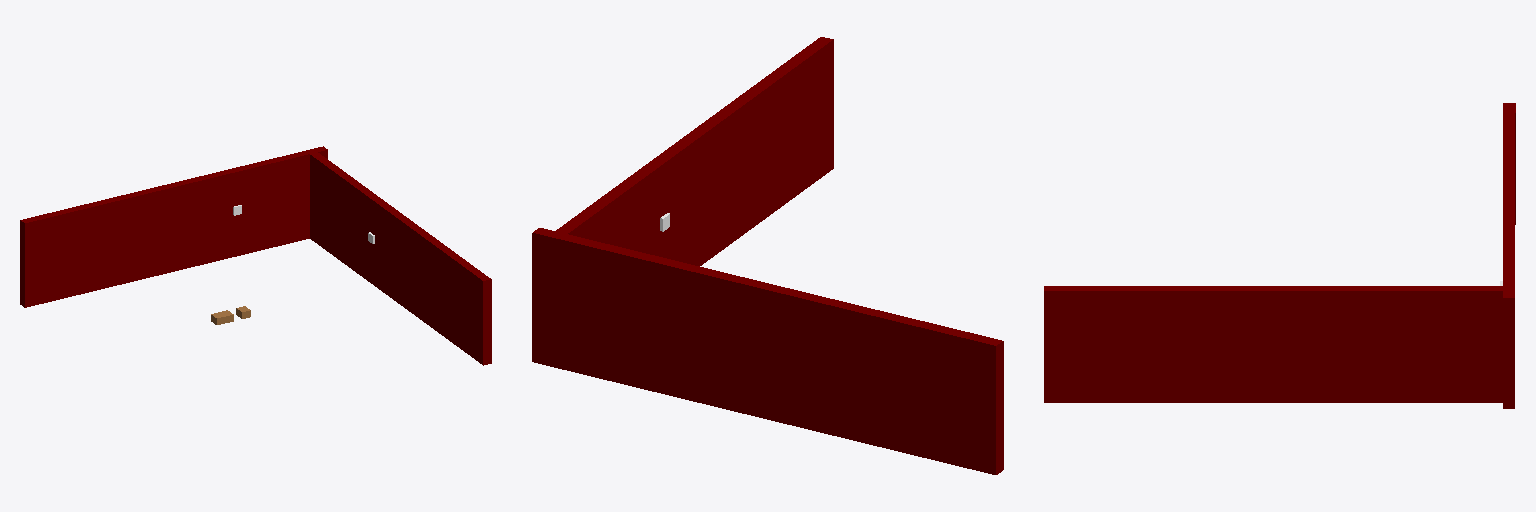
The robot description file, URDF, robot "aruco_markers":
<?xml version="1.0" ?>
<!-- =================================================================================== -->
<!-- |    This document was autogenerated by xacro from bot_world.urdf.xacro           | -->
<!-- |    EDITING THIS FILE BY HAND IS NOT RECOMMENDED                                 | -->
<!-- =================================================================================== -->
<robot name="aruco_markers">
  <link name="base_box">
    <visual>
      <origin rpy="0 0 1.57" xyz="0 0 0.0825"/>
      <geometry>
        <box size="0.255 0.21 0.165"/>
      </geometry>
      <material name="Almond">
        <color rgba="0.7 0.5 0.3 1.0"/>
      </material>
    </visual>
    <collision>
      <origin rpy="0 0 0" xyz="0 0 0.0825"/>
      <geometry>
        <box size="0.255 0.21 0.165"/>
      </geometry>
    </collision>
    <inertial>
      <origin rpy="0 0 0" xyz="0 0 0.0825"/>
      <mass value="0.180"/>
      <inertia ixx="6.0e-4" ixy="0" ixz="0" iyy="6.0e-4" iyz="0" izz="6.0e-4"/>
    </inertial>
  </link>
  <!-- <xacro:box_world name="box_1" parent="base_box"> -->
  <!-- 	<origin xyz="0.42 0 0" rpy="0 0 1.57"/> -->
  <!-- </xacro:box_world> -->
  <link name="box_2">
    <visual>
      <origin rpy="0 0 0" xyz="0 0 0.0825"/>
      <geometry>
        <box size="0.255 0.21 0.165"/>
      </geometry>
      <material name="Almond">
        <color rgba="0.7 0.5 0.3 1.0"/>
      </material>
    </visual>
    <collision>
      <origin rpy="0 0 0" xyz="0 0 0.0825"/>
      <geometry>
        <box size="0.255 0.21 0.165"/>
      </geometry>
    </collision>
    <inertial>
      <origin rpy="0 0 0" xyz="0 0 0.0825"/>
      <mass value="0.180"/>
      <inertia ixx="6.0e-4" ixy="0" ixz="0" iyy="6.0e-4" iyz="0" izz="6.0e-4"/>
    </inertial>
  </link>
  <joint name="box_2_joint" type="continuous">
    <origin rpy="0 0 1.57" xyz="-0.42 0 0"/>
    <parent link="base_box"/>
    <child link="box_2"/>
  </joint>
  <!-- <xacro:box_world name="box_3" parent="base_box"> -->
  <!-- 	<origin xyz="-0.21 -0.1275 0" rpy="0 0 1.57"/> -->
  <!-- </xacro:box_world> -->
  <link name="box_4">
    <visual>
      <origin rpy="0 0 0" xyz="0 0 0.0825"/>
      <geometry>
        <box size="0.255 0.21 0.165"/>
      </geometry>
      <material name="Almond">
        <color rgba="0.7 0.5 0.3 1.0"/>
      </material>
    </visual>
    <collision>
      <origin rpy="0 0 0" xyz="0 0 0.0825"/>
      <geometry>
        <box size="0.255 0.21 0.165"/>
      </geometry>
    </collision>
    <inertial>
      <origin rpy="0 0 0" xyz="0 0 0.0825"/>
      <mass value="0.180"/>
      <inertia ixx="6.0e-4" ixy="0" ixz="0" iyy="6.0e-4" iyz="0" izz="6.0e-4"/>
    </inertial>
  </link>
  <joint name="box_4_joint" type="continuous">
    <origin rpy="0 0 1.57" xyz="-0.63 0 0"/>
    <parent link="base_box"/>
    <child link="box_4"/>
  </joint>
  <link name="wall_1">
    <visual>
      <origin rpy="0 0 0" xyz="0 0 1.0"/>
      <geometry>
        <box size="0.2 7.5 2.0"/>
      </geometry>
      <material name="Maroon">
        <color rgba="0.5 0.0 0.0 1.0"/>
      </material>
    </visual>
    <collision>
      <origin rpy="0 0 0" xyz="0 0 1.0"/>
      <geometry>
        <box size="0.2 7.5 2.0"/>
      </geometry>
    </collision>
    <inertial>
      <origin rpy="0 0 0" xyz="0 0 1.0"/>
      <mass value="2"/>
      <inertia ixx="6.0e-2" ixy="0" ixz="0" iyy="6.0e-4" iyz="0" izz="6.0e-2"/>
    </inertial>
  </link>
  <joint name="wall_1_joint" type="continuous">
    <origin rpy="0 0 0" xyz="3.3 -1.0 0.0"/>
    <parent link="base_box"/>
    <child link="wall_1"/>
  </joint>
  <link name="wall_2">
    <visual>
      <origin rpy="0 0 0" xyz="0 0 1.0"/>
      <geometry>
        <box size="0.2 7.5 2.0"/>
      </geometry>
      <material name="Maroon">
        <color rgba="0.5 0.0 0.0 1.0"/>
      </material>
    </visual>
    <collision>
      <origin rpy="0 0 0" xyz="0 0 1.0"/>
      <geometry>
        <box size="0.2 7.5 2.0"/>
      </geometry>
    </collision>
    <inertial>
      <origin rpy="0 0 0" xyz="0 0 1.0"/>
      <mass value="2"/>
      <inertia ixx="6.0e-2" ixy="0" ixz="0" iyy="6.0e-4" iyz="0" izz="6.0e-2"/>
    </inertial>
  </link>
  <joint name="wall_2_joint" type="continuous">
    <origin rpy="0 0 1.57" xyz="-0.1 2.8 0.0"/>
    <parent link="base_box"/>
    <child link="wall_2"/>
  </joint>
  <link name="wb1_w1">
    <visual>
      <origin rpy="0 0 0" xyz="0 0 0.1"/>
      <geometry>
        <box size="0.1 0.2 0.2"/>
      </geometry>
      <material name="White">
        <color rgba="1.0 1.0 1.0 1.0"/>
      </material>
    </visual>
    <collision>
      <origin rpy="0 0 0" xyz="0 0 0.1"/>
      <geometry>
        <box size="0.1 0.2 0.2"/>
      </geometry>
    </collision>
    <inertial>
      <origin rpy="0 0 0" xyz="0 0 0.1"/>
      <mass value="0.180"/>
      <inertia ixx="6.0e-4" ixy="0" ixz="0" iyy="6.0e-4" iyz="0" izz="6.0e-4"/>
    </inertial>
  </link>
  <joint name="wb1_w1_joint" type="fixed">
    <origin rpy="0 0 0" xyz="3.2 0.0 1.0"/>
    <parent link="base_box"/>
    <child link="wb1_w1"/>
  </joint>
  <link name="wb1_w2">
    <visual>
      <origin rpy="0 0 0" xyz="0 0 0.1"/>
      <geometry>
        <box size="0.1 0.2 0.2"/>
      </geometry>
      <material name="White">
        <color rgba="1.0 1.0 1.0 1.0"/>
      </material>
    </visual>
    <collision>
      <origin rpy="0 0 0" xyz="0 0 0.1"/>
      <geometry>
        <box size="0.1 0.2 0.2"/>
      </geometry>
    </collision>
    <inertial>
      <origin rpy="0 0 0" xyz="0 0 0.1"/>
      <mass value="0.180"/>
      <inertia ixx="6.0e-4" ixy="0" ixz="0" iyy="6.0e-4" iyz="0" izz="6.0e-4"/>
    </inertial>
  </link>
  <joint name="wb1_w2_joint" type="fixed">
    <origin rpy="0 0 1.57" xyz="1.4 2.7 1.0"/>
    <parent link="base_box"/>
    <child link="wb1_w2"/>
  </joint>
  <link name="marker01_link">
    <inertial>
      <mass value="0.001"/>
      <origin xyz="0 0 0"/>
      <inertia ixx="3.7499999999999997e-06" ixy="0.0" ixz="0.0" iyy="1.8750008333333333e-06" iyz="0.0" izz="1.8750008333333333e-06"/>
    </inertial>
    <visual>
      <origin rpy="0 1.57 0" xyz="0 0 0.0"/>
      <geometry>
        <mesh filename="file://[local-path]/RSP_final_project/install/ign_gazebo/share/ign_gazebo/meshes/marker01.stl" scale="0.25 0.25 0.25"/>
      </geometry>
      <material name="Gray">
        <color rgba="0.0 0.0 0.0 1.0"/>
      </material>
    </visual>
    <collision>
      <origin rpy="0 0 0" xyz="0 0 0"/>
      <geometry>
        <box size="0.1 0.1 0.1"/>
      </geometry>
    </collision>
  </link>
  <joint name="marker01_joint" type="fixed">
    <origin rpy="0 0 0" xyz="-0.05 0.0 0.1"/>
    <parent link="wb1_w1"/>
    <child link="marker01_link"/>
  </joint>
  <link name="marker03_link">
    <inertial>
      <mass value="0.001"/>
      <origin xyz="0 0 0"/>
      <inertia ixx="3.7499999999999997e-06" ixy="0.0" ixz="0.0" iyy="1.8750008333333333e-06" iyz="0.0" izz="1.8750008333333333e-06"/>
    </inertial>
    <visual>
      <origin rpy="0 1.57 0" xyz="0 0 0.0"/>
      <geometry>
        <mesh filename="file://[local-path]/RSP_final_project/install/ign_gazebo/share/ign_gazebo/meshes/marker03.stl" scale="0.25 0.25 0.25"/>
      </geometry>
      <material name="Gray">
        <color rgba="0.0 0.0 0.0 1.0"/>
      </material>
    </visual>
    <collision>
      <origin rpy="0 0 0" xyz="0 0 0"/>
      <geometry>
        <box size="0.1 0.1 0.1"/>
      </geometry>
    </collision>
  </link>
  <joint name="marker03_joint" type="fixed">
    <origin rpy="0 0 0" xyz="-0.05 0 0.1"/>
    <parent link="wb1_w2"/>
    <child link="marker03_link"/>
  </joint>
  <link name="shelf_link">
    <inertial>
      <mass value="4"/>
      <origin xyz="0 0 0"/>
      <inertia ixx="3" ixy="0.0" ixz="0.0" iyy="2" iyz="0.0" izz="2"/>
    </inertial>
    <visual>
      <origin rpy="0 0 0" xyz="0 0 0.0"/>
      <geometry>
        <mesh filename="file://[local-path]/RSP_final_project/install/ign_gazebo/share/ign_gazebo/meshes/shelf_big_movai.dae" scale="0.2 0.3 0.3"/>
      </geometry>
    </visual>
    <collision>
      <origin rpy="0 0 0" xyz="0 0 0.9"/>
      <geometry>
        <box size="4.5 0.6 1.8"/>
      </geometry>
    </collision>
  </link>
  <joint name="shelf_joint" type="continuous">
    <origin rpy="0 0 0" xyz="-2.0 -2.0 0.0"/>
    <parent link="base_box"/>
    <child link="shelf_link"/>
  </joint>
</robot>

--- Render facts (derived) ---
3 views of the same robot in one strip: view 1: azimuth 30°, elevation 25°; view 2: azimuth 150°, elevation 25°; view 3: azimuth 270°, elevation 25° (orthographic).
Robot: aruco_markers — 10 links, 9 joints (5 continuous, 4 fixed); root link base_box; default pose: every joint at zero.
Visible links, largest first — view 1: wall_2, wall_1; view 2: wall_2, wall_1; view 3: wall_1, wall_2.
Boxes of the visible links, box(x1,y1,x2,y2) form: wall_2: box(20, 146, 327, 307); wall_1: box(310, 151, 491, 365); wall_2: box(532, 228, 1003, 474); wall_1: box(553, 37, 833, 265); wall_1: box(1044, 286, 1505, 402); wall_2: box(1503, 103, 1515, 408).
Size in the robot's own frame: 7.5 by 7.65 by 2 metres.
Geometry: only primitive shapes (box / cylinder / sphere) drawn; not drawn: 3 mesh visuals (reference in a form the renderer does not follow).
